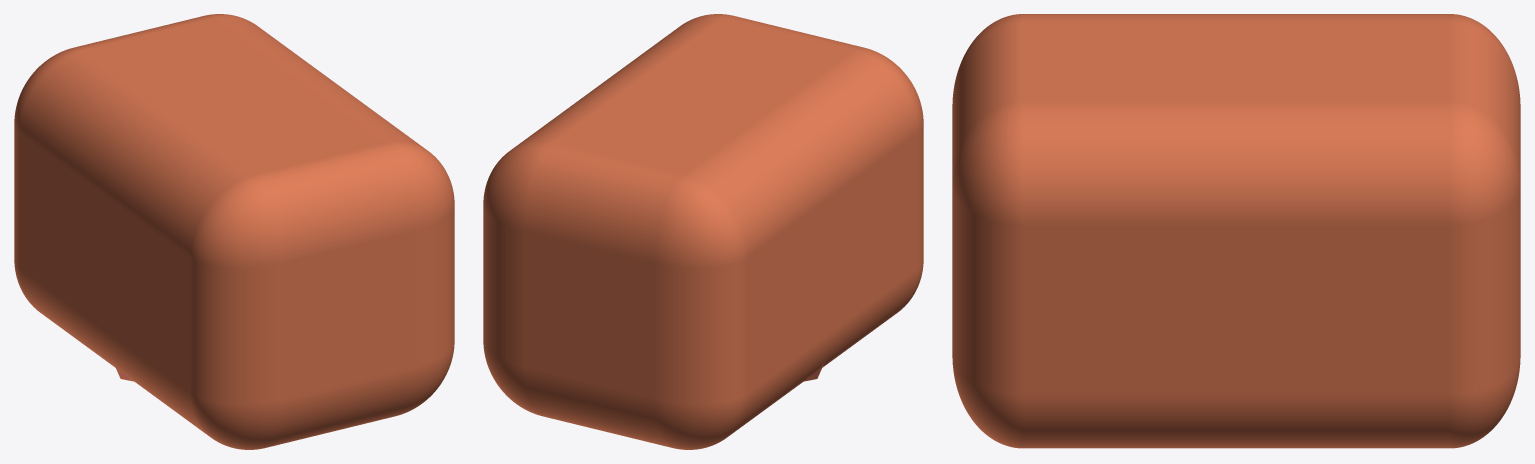
File: cake5.fbx
The picture shows the model from 3 angles, left to right: view 1: azimuth 30°, elevation 25°; view 2: azimuth 150°, elevation 25°; view 3: azimuth 270°, elevation 25°; orthographic projection. The views are drawn at different scales.
Parts seen in each view (by area): view 1: Cube.164, Cube.165; view 2: Cube.165, Cube.164; view 3: Cube.164, Cube.165.
Boxes of the visible parts, x1,y1,x2,y2 form: Cube.164: [105, 79, 454, 449]; Cube.165: [14, 14, 338, 381]; Cube.165: [483, 79, 832, 449]; Cube.164: [599, 14, 923, 381]; Cube.164: [952, 14, 1236, 448]; Cube.165: [1236, 14, 1520, 448].
Bounding box in the file's own units: 393 × 393 × 599.
